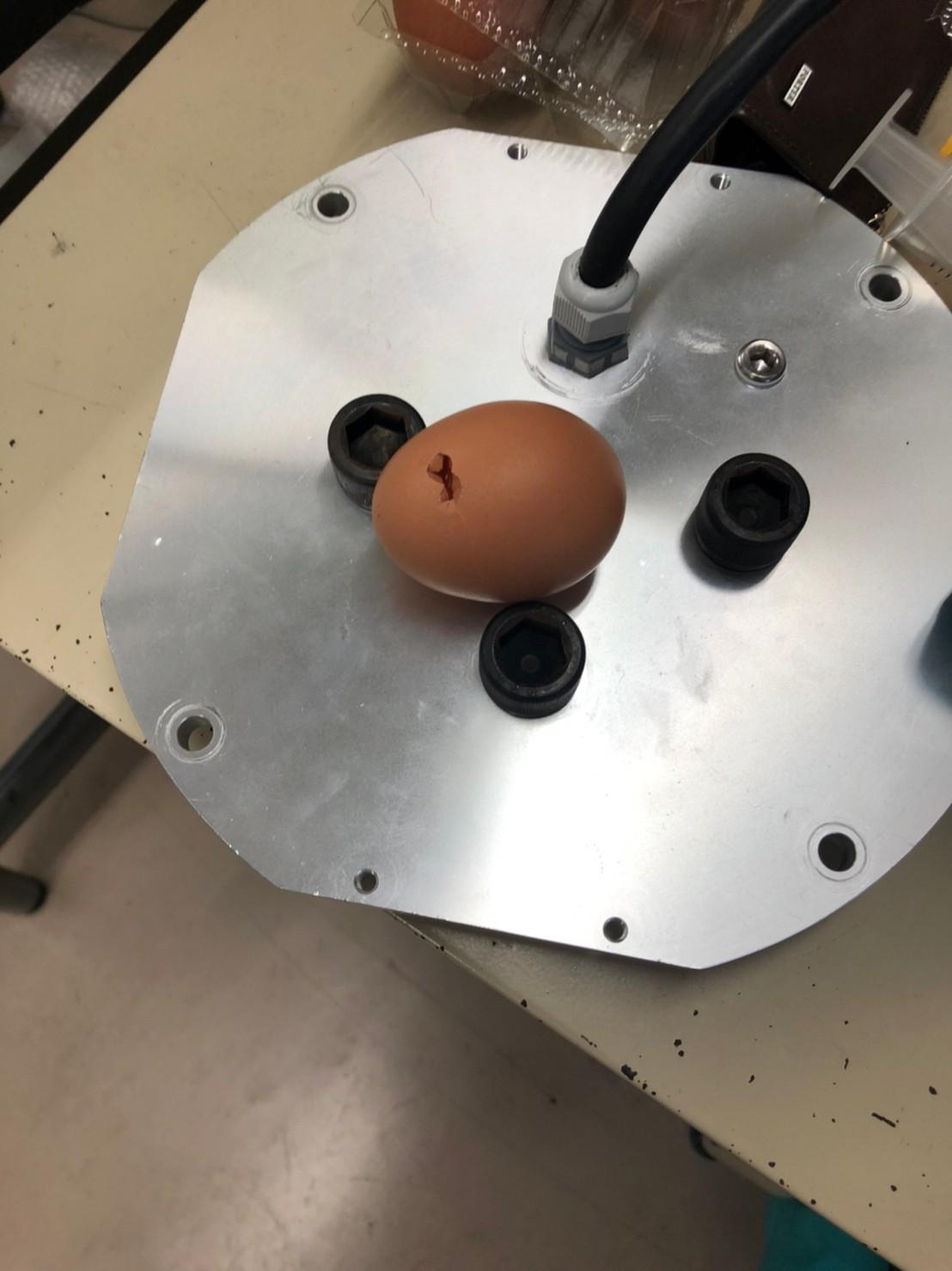egg: (371, 397, 635, 613)
